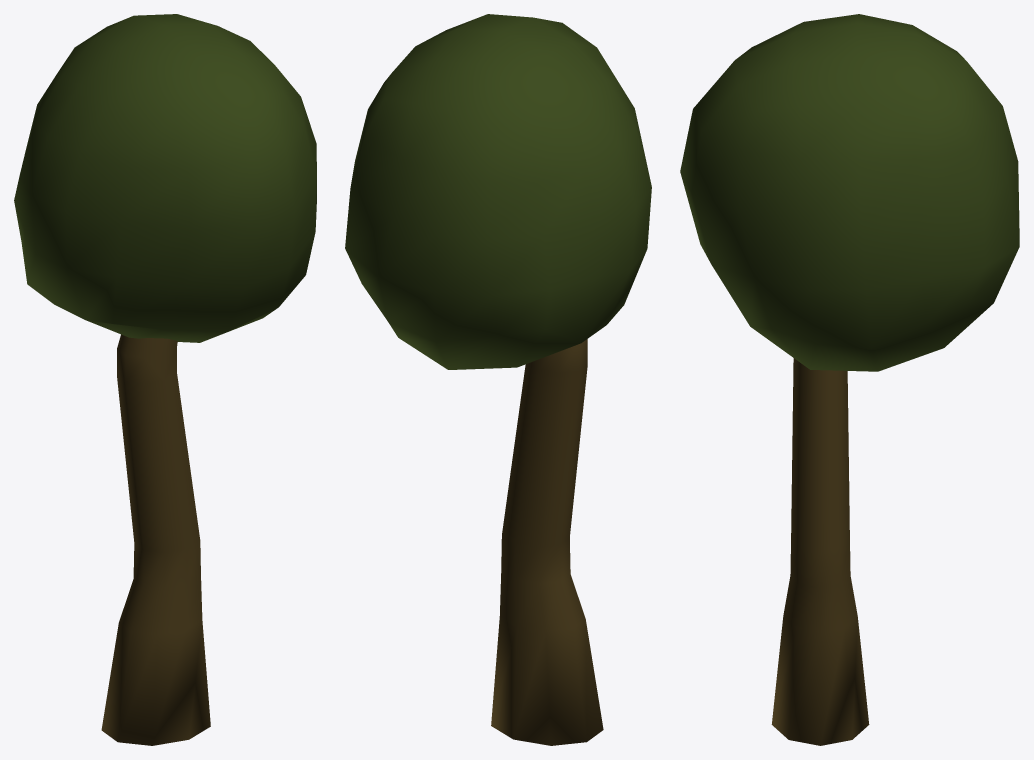
Rendered from talltraa_combined.fbx.
The picture shows the model from 3 angles, left to right: view 1: azimuth 30°, elevation 25°; view 2: azimuth 150°, elevation 25°; view 3: azimuth 270°, elevation 25°; orthographic projection. The views are drawn at different scales.
Visible parts, largest first — view 1: roundleaves2; view 2: roundleaves2; view 3: roundleaves2.
Boxes of the visible parts, x1=… form: roundleaves2: x1=14, y1=14, x2=316, y2=745; roundleaves2: x1=345, y1=14, x2=651, y2=745; roundleaves2: x1=680, y1=14, x2=1019, y2=745.
Size of the model in its own units: 4.33 by 10.61 by 4.6.
